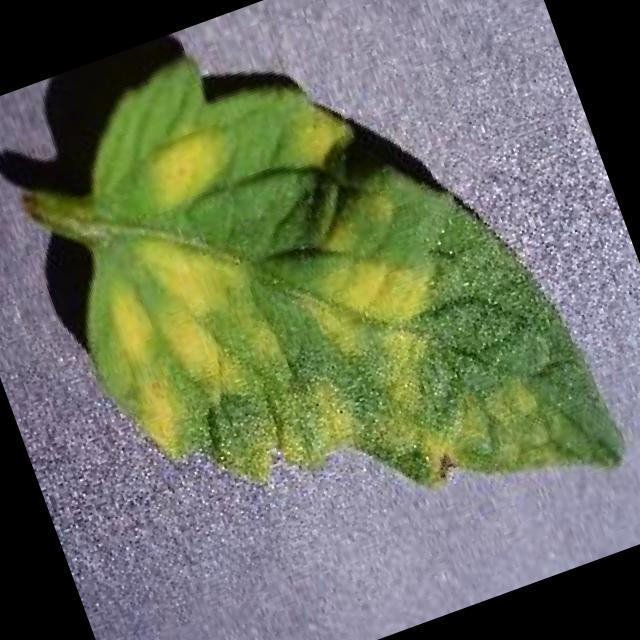Tomato mold leaf: (8, 0, 632, 622)
